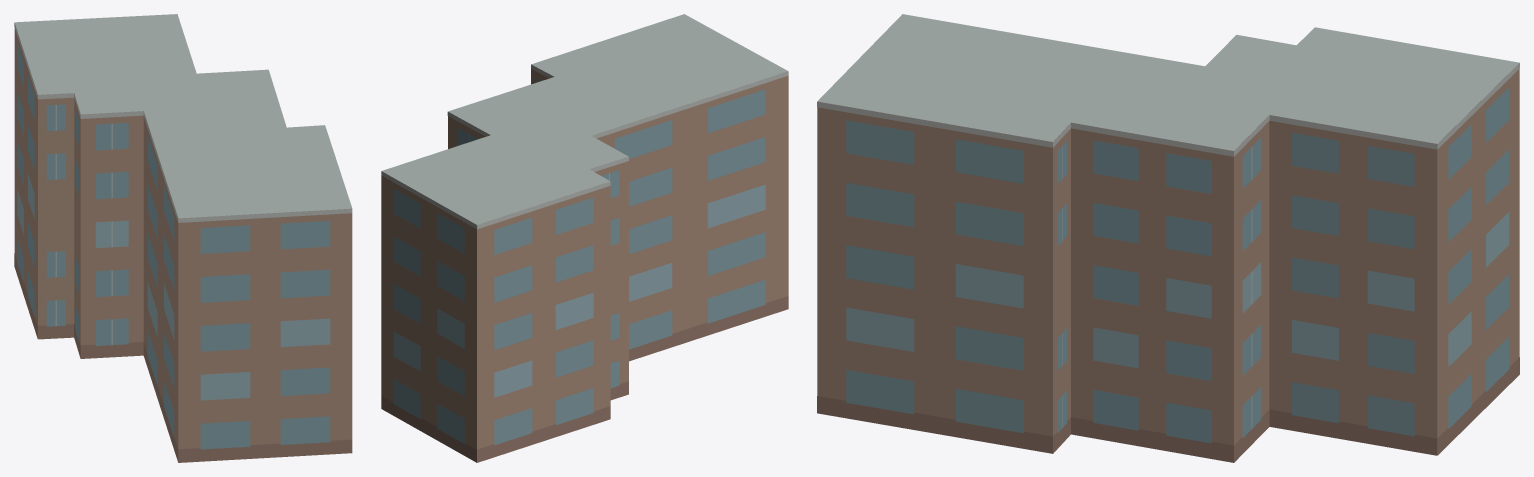
Rendered from survey-upis-32946595.glb.
3 renders of one model, left to right at view 1: azimuth 30°, elevation 25°; view 2: azimuth 150°, elevation 25°; view 3: azimuth 270°, elevation 25°, orthographic. The views are drawn at different scales.
Visible parts, largest first — view 1: survey-upis-32946595.tmp; view 2: survey-upis-32946595.tmp; view 3: survey-upis-32946595.tmp.
Part boxes in pixels (left/top/right/bottom): survey-upis-32946595.tmp: left=14, top=14, right=352, bottom=462; survey-upis-32946595.tmp: left=381, top=14, right=788, bottom=462; survey-upis-32946595.tmp: left=817, top=14, right=1519, bottom=462.
Bounding box in the file's own units: 12.55 × 13.3 × 27.18.
